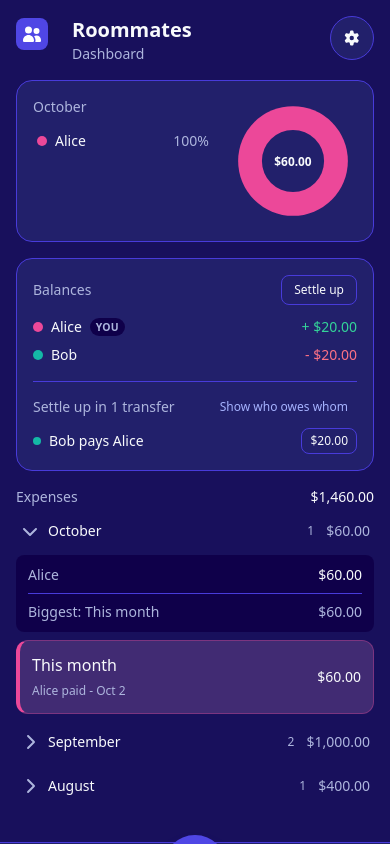
DashboardView on the main group › how a finished month went › names the biggest single expense
Click the button with test id "month-toggle" showing "September 2": point(84, 742) 16,726 -> 298,758
(page scrolled)
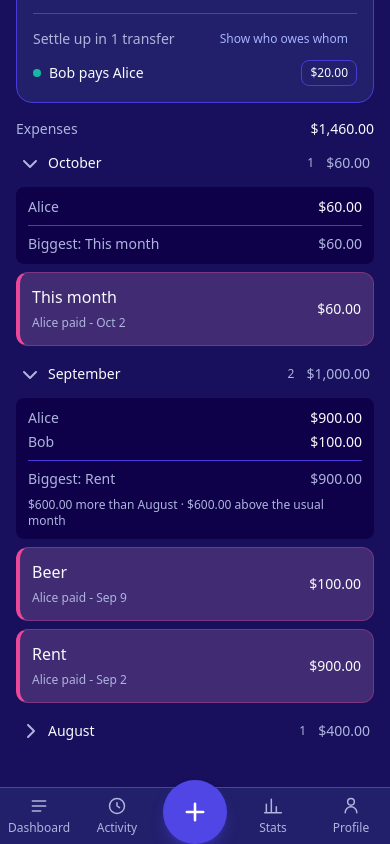
Result: the element with test id "recap-biggest" shows "Rent" at 28,469 -> 115,488
Result: the element with test id "recap-biggest" shows "900.00" at 310,469 -> 362,488
